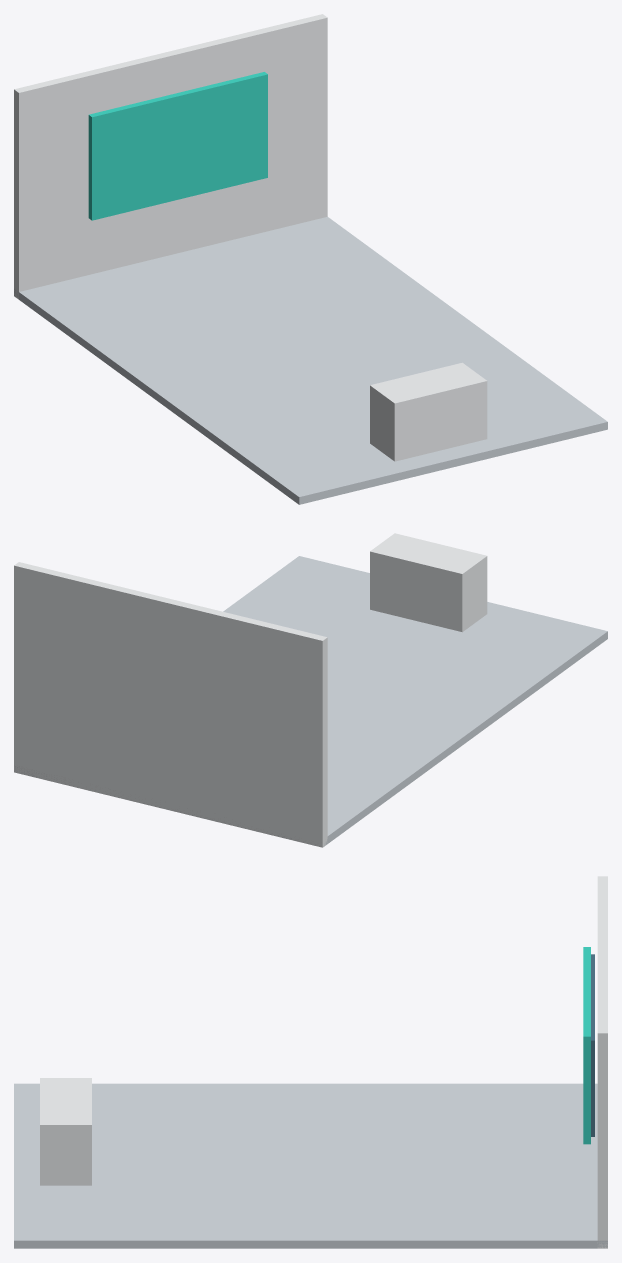
3 views of the same model, one above another, from view 1: azimuth 30°, elevation 25°; view 2: azimuth 150°, elevation 25°; view 3: azimuth 270°, elevation 25° (orthographic). The views are drawn at different scales.
Visible parts, largest first — view 1: Exhibition Booth Concept; view 2: Exhibition Booth Concept; view 3: Exhibition Booth Concept.
Part boxes in pixels (<box>): Exhibition Booth Concept: <box>14,14,607,504</box>; Exhibition Booth Concept: <box>14,533,607,847</box>; Exhibition Booth Concept: <box>14,876,607,1248</box>.
Bounding box in the file's own units: 5 × 3.2 × 8.
